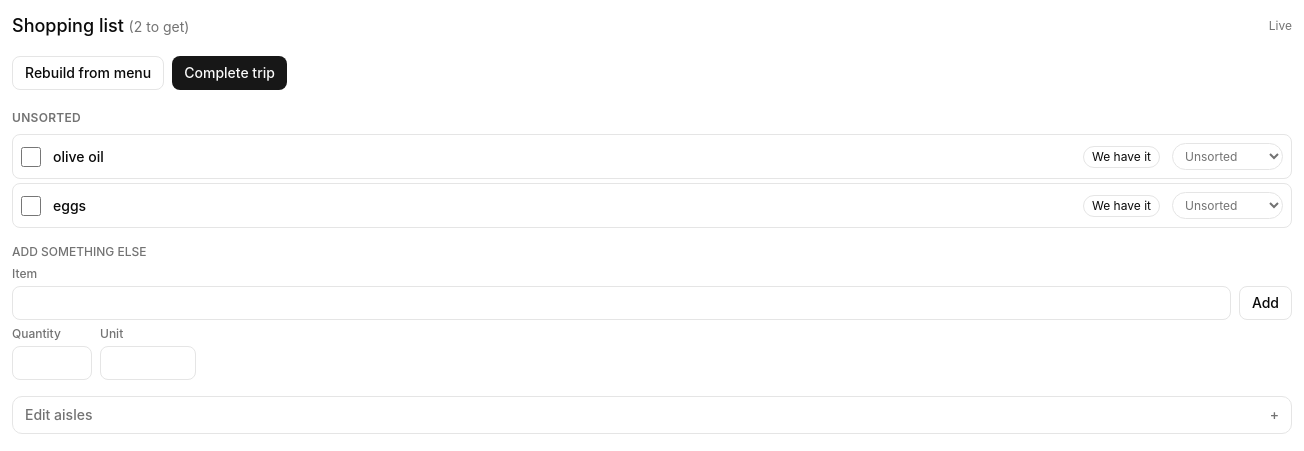
it: GroceryList — we have it › keeps the item off the list when an OLDER server snapshot still lists it
Click the button "We have it" in the row of "olive oil" at (1122, 156), box [1083,146,1160,168]
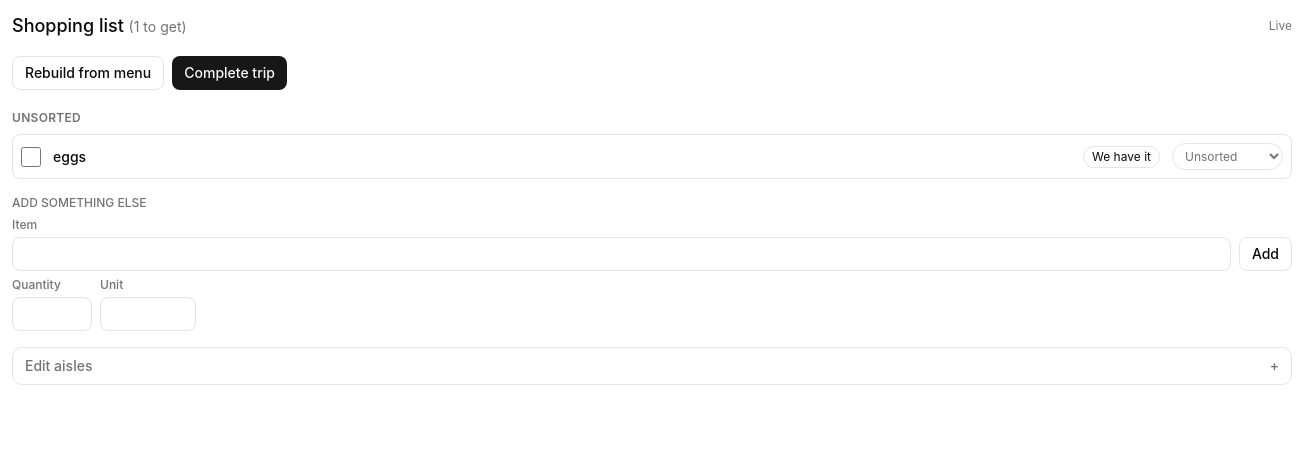
Expected: the number of list items with test id "grocery-item" is 1, [12,134,1292,179]
